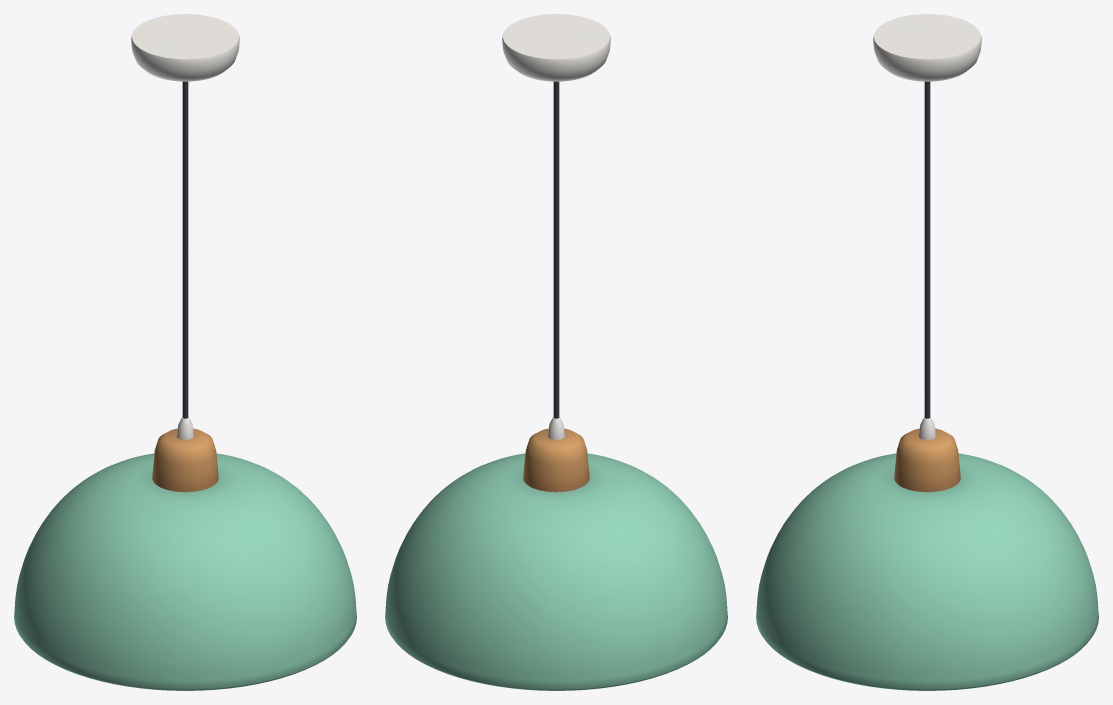
File: ceiling-lamp.glb
3 views of the same model, side by side, from view 1: azimuth 30°, elevation 25°; view 2: azimuth 150°, elevation 25°; view 3: azimuth 270°, elevation 25° (orthographic).
Visible parts, largest first — view 1: ceiling-lamp_body; view 2: ceiling-lamp_body; view 3: ceiling-lamp_body.
Part boxes in pixels (x1,y1,x2,y2): ceiling-lamp_body: (14,14,356,690); ceiling-lamp_body: (385,14,727,690); ceiling-lamp_body: (756,14,1098,690).
Size of the model in its own units: 0.4226 by 0.7933 by 0.4226.
2 materials, 1 textured.
